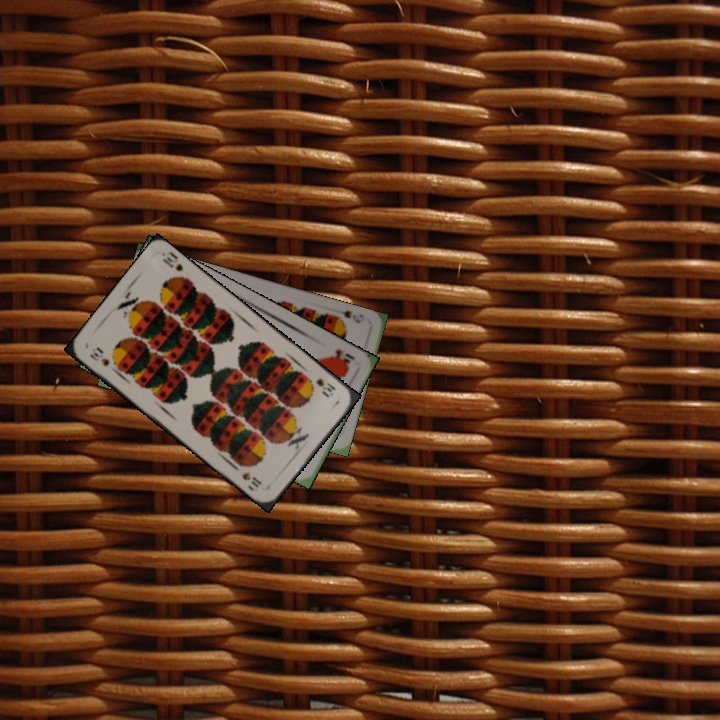HO: (327, 345, 358, 366)
S10: (312, 374, 338, 399), (86, 344, 112, 369)
S9: (329, 305, 366, 326)
